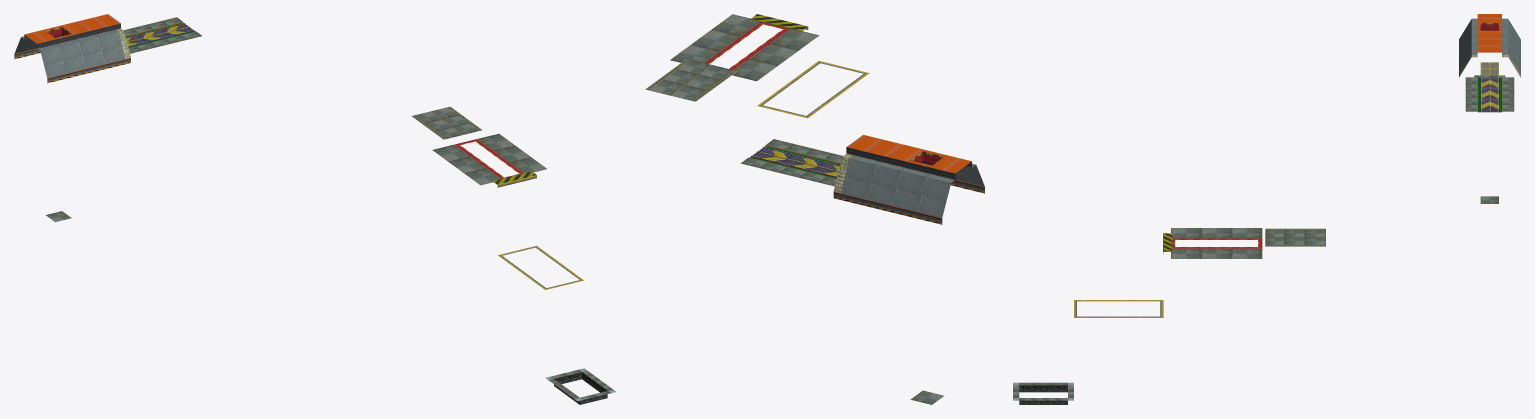
The model's file is STG08_ONS_08.obj.
The picture shows the model from 3 angles, left to right: view 1: azimuth 30°, elevation 25°; view 2: azimuth 150°, elevation 25°; view 3: azimuth 270°, elevation 25°; orthographic projection. The views are drawn at different scales.
Visible parts, largest first — view 1: Object_2; view 2: Object_2; view 3: Object_2.
Boxes of the visible parts, x1,y1,x2,y2 form: Object_2: [14, 14, 616, 404]; Object_2: [645, 14, 984, 404]; Object_2: [1013, 14, 1520, 404].
Bounding box in the file's own units: 1243 × 875 × 1671.
